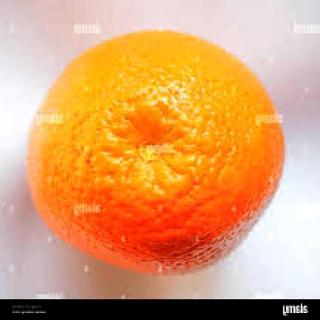orange: (26, 18, 298, 288)
